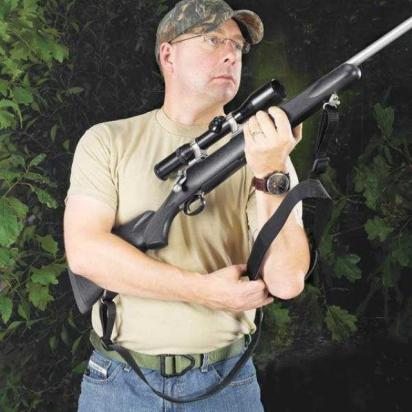Gun: (64, 0, 412, 318)
